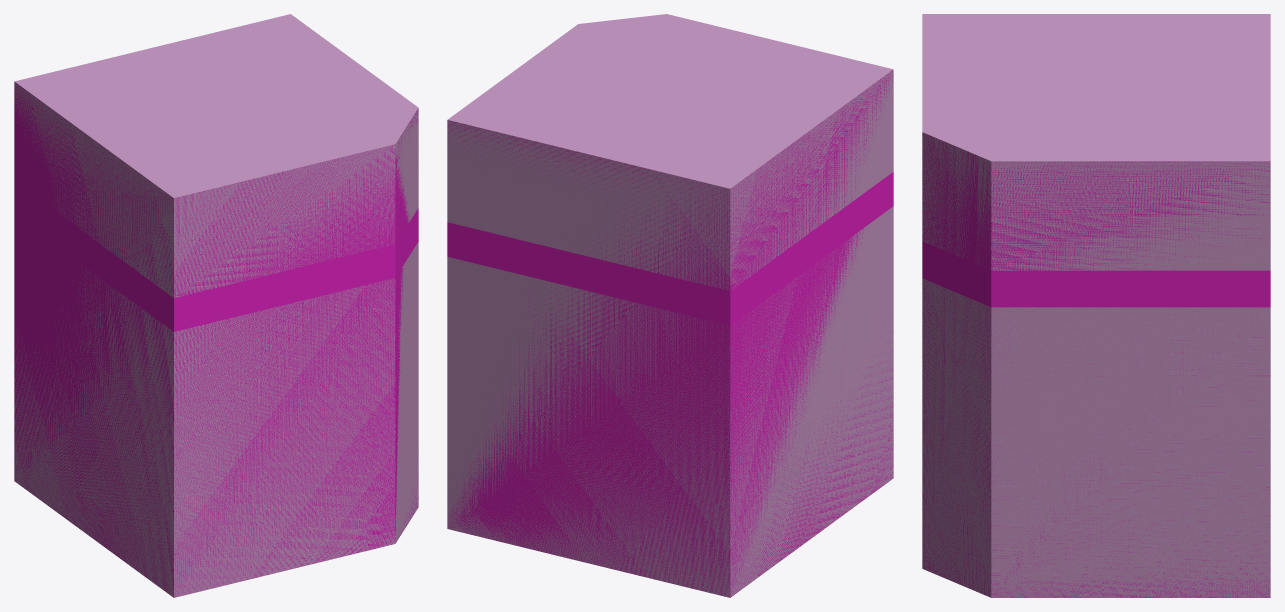
Rendered from building15.fbx.
The picture shows the model from 3 angles, left to right: view 1: azimuth 30°, elevation 25°; view 2: azimuth 150°, elevation 25°; view 3: azimuth 270°, elevation 25°; orthographic projection. The views are drawn at different scales.
Parts seen in each view (by area): view 1: building15_MESH, building15_COL; view 2: building15_MESH, building15_COL; view 3: building15_MESH, building15_COL.
Boxes of the visible parts, x1=… form: building15_MESH: x1=14, y1=14, x2=418, y2=597; building15_COL: x1=14, y1=83, x2=418, y2=597; building15_MESH: x1=447, y1=14, x2=893, y2=597; building15_COL: x1=447, y1=71, x2=893, y2=597; building15_MESH: x1=922, y1=14, x2=1270, y2=597; building15_COL: x1=922, y1=132, x2=1270, y2=597.
Size of the model in its own units: 673 by 673 by 931.
